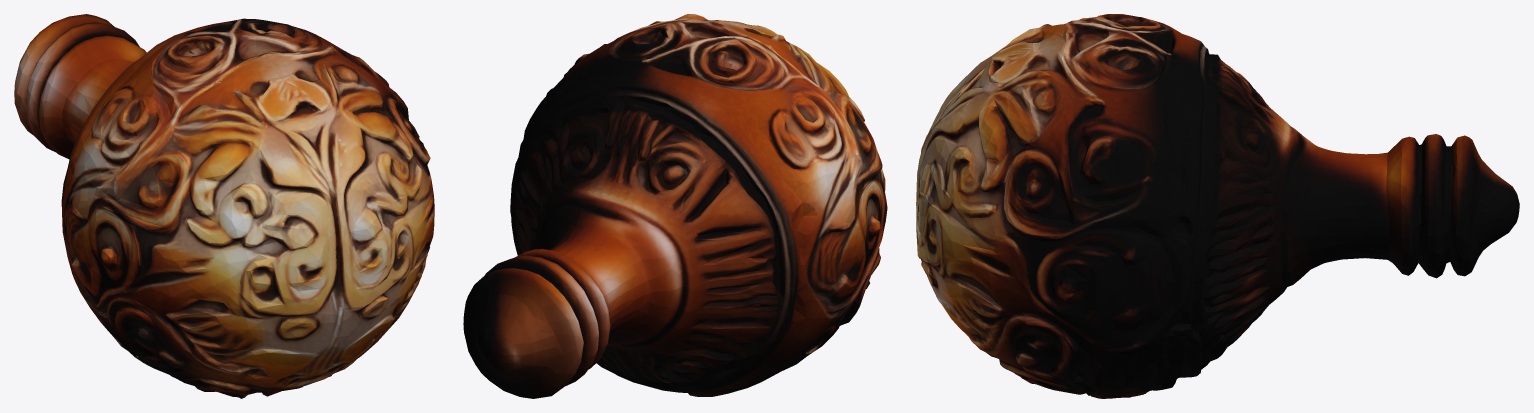
The model's file is wooden-maracas-vintage.jpeg.glb.
The picture shows the model from 3 angles, left to right: view 1: azimuth 30°, elevation 25°; view 2: azimuth 150°, elevation 25°; view 3: azimuth 270°, elevation 25°; orthographic projection.
Parts seen in each view (by area): view 1: world; view 2: world; view 3: world.
Part boxes in pixels (x1,y1,x2,y2): world: (14,14,434,398); world: (463,14,887,398); world: (916,14,1519,398).
Size of the model in its own units: 0.6334 by 0.6359 by 0.9996.
Materials: 1 (1 with a texture image).
